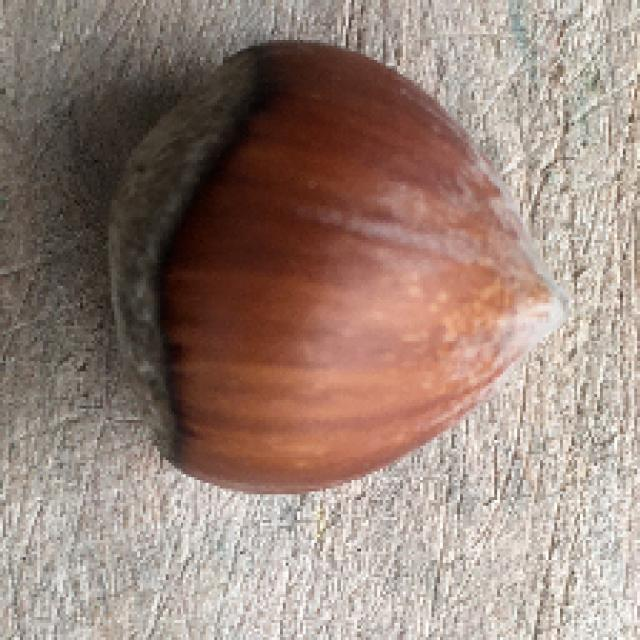hazelnut: (97, 45, 574, 494)
